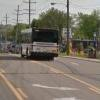Bus: (14, 26, 69, 63)
